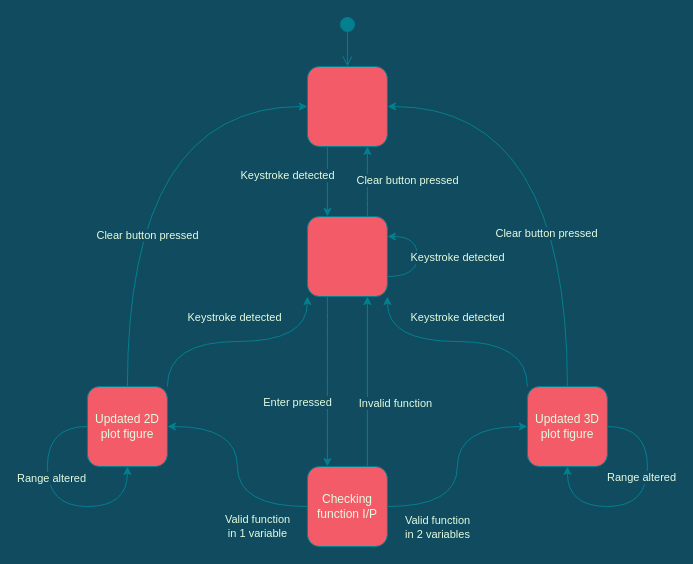
The diagram is 693 pixels wide and 564 high, and some of its shapes have lost their labels. Each missing label, with the centre of its shape:
"Idle" goes at point 346,106.
"Waiting for function I/P" goes at point 346,256.
